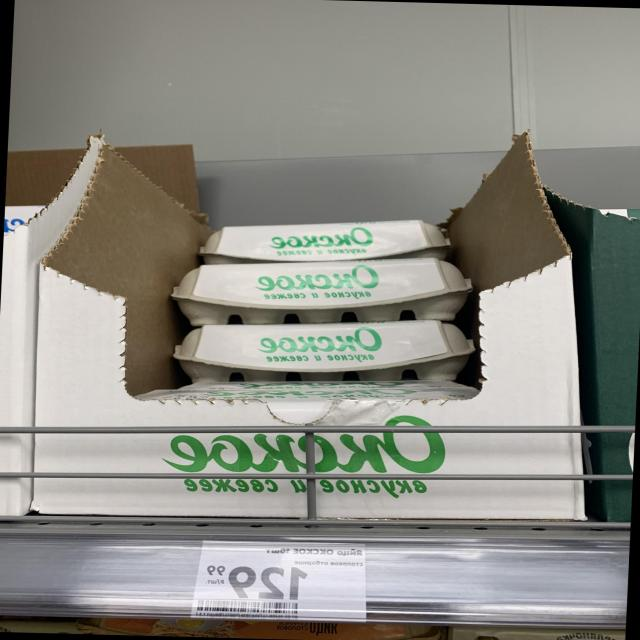organic waste: (170, 252, 477, 324), (172, 316, 472, 386), (188, 213, 464, 268), (3, 195, 48, 255)
